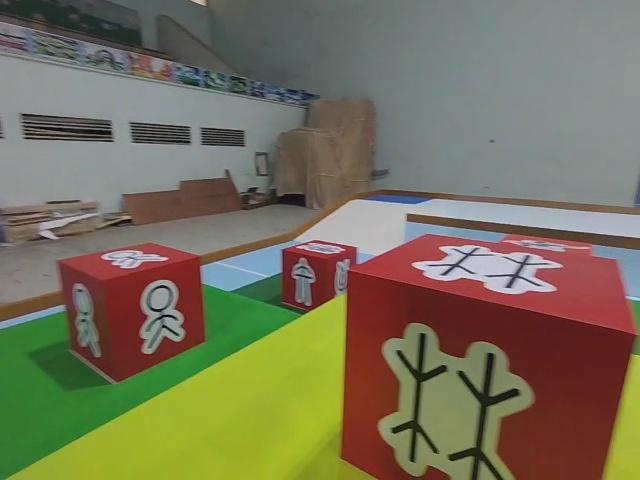R2 Fake: (280, 238, 358, 313)
R2 Real: (338, 231, 640, 480), (55, 239, 208, 383)
